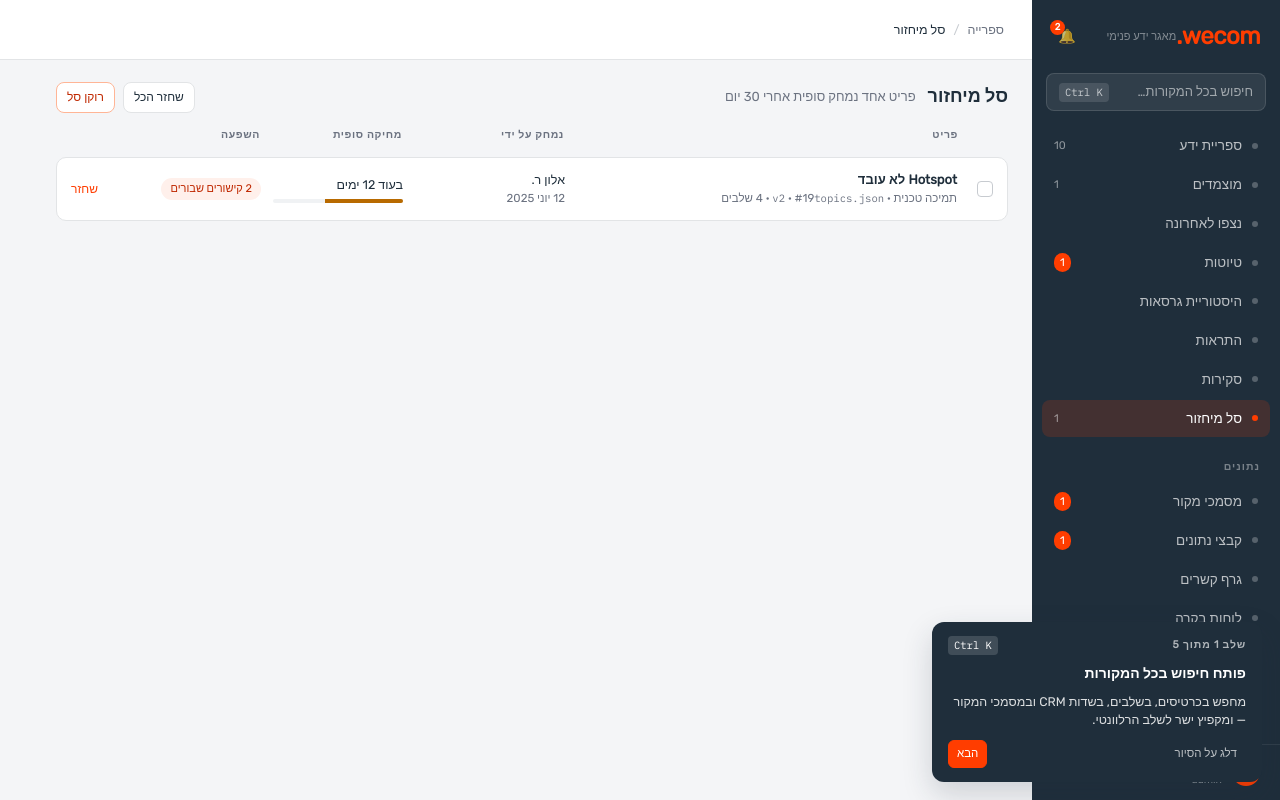
<TrashPage> › reports what the purge kept, rather than claiming it emptied the bin
The image size is (1280, 800).
Expected: the text "2 קישורים שבורים" is shown, 162,178 -> 261,200
Click the button "רוקן סל". click: (85, 97)
box: 56,82 -> 115,113
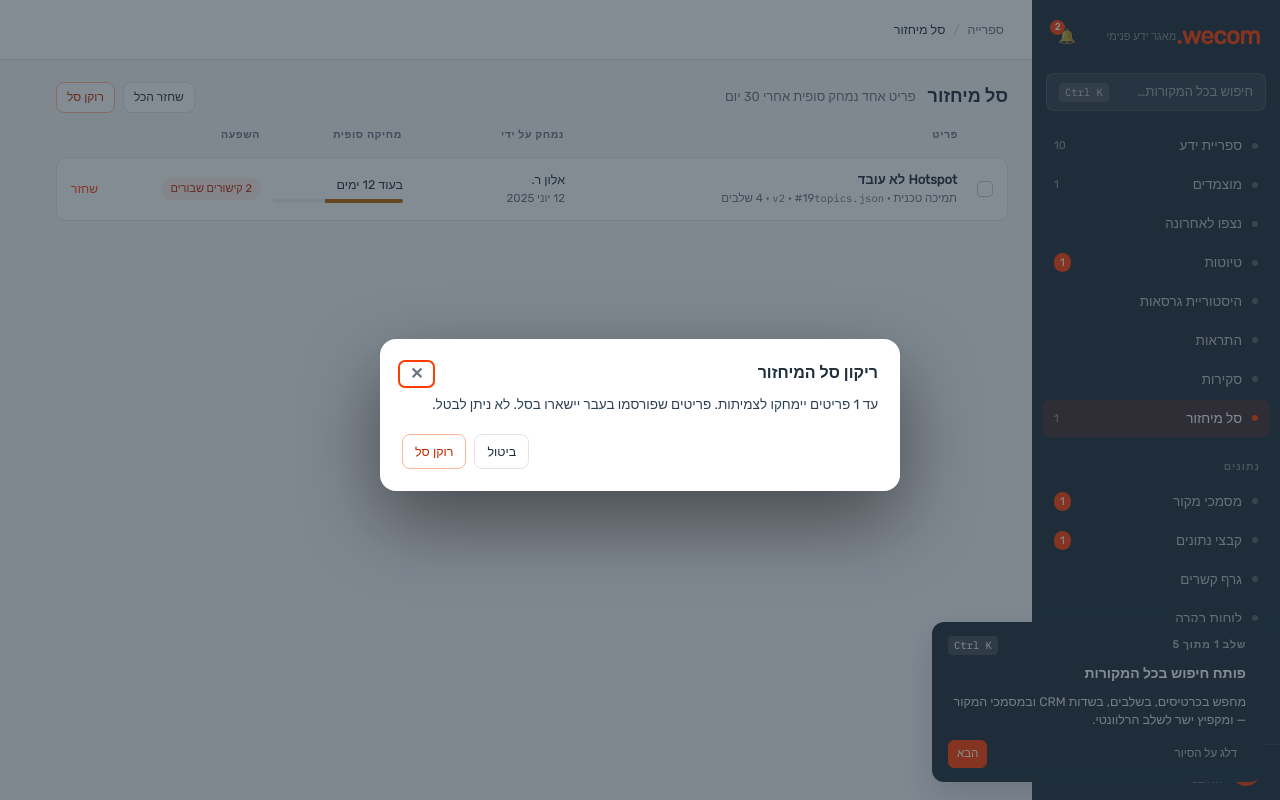
Expected: the text "פריטים שפורסמו בעבר יישארו בסל" is shown, 432,396 -> 878,412
Click the button "רוקן סל". click: (434, 451)
box: 402,434 -> 466,469
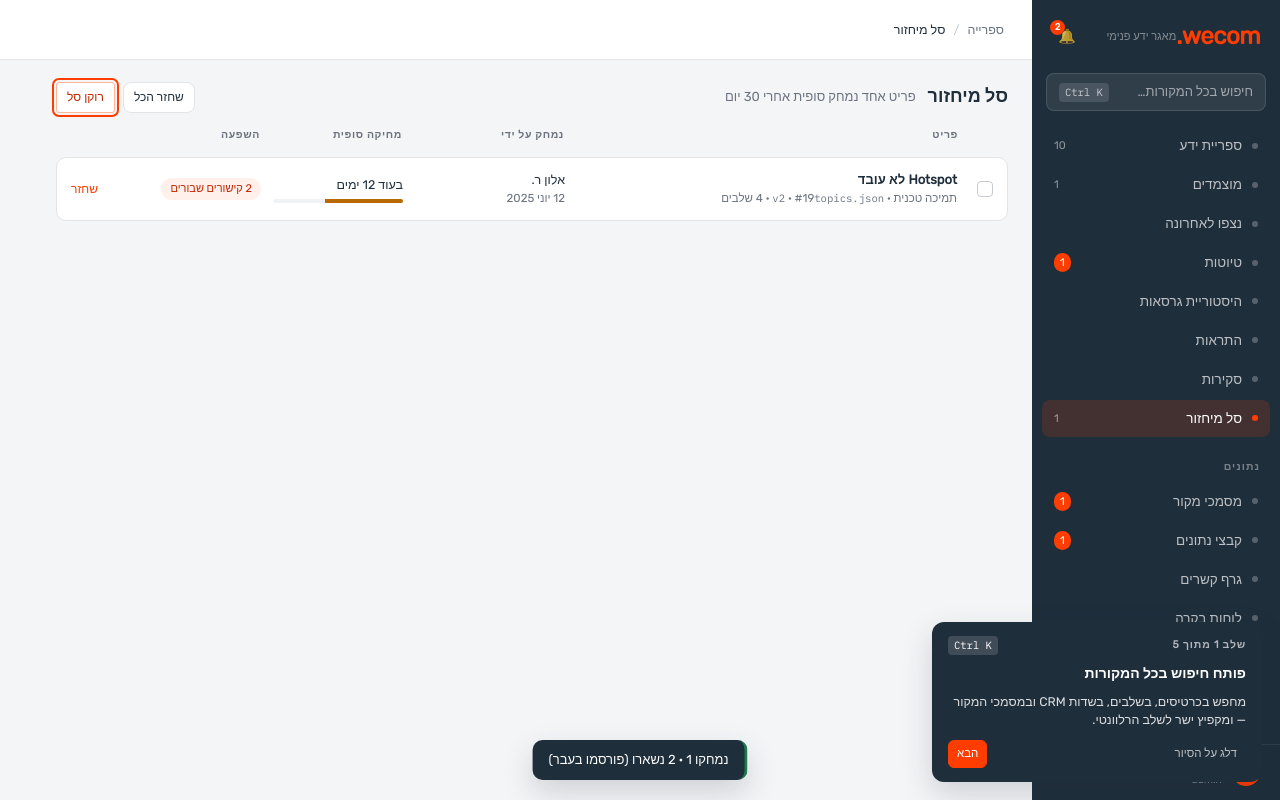
Expected: the text "נמחקו 1 · 2 נשארו (פורסמו בעבר)" is shown, 548,750 -> 729,770
